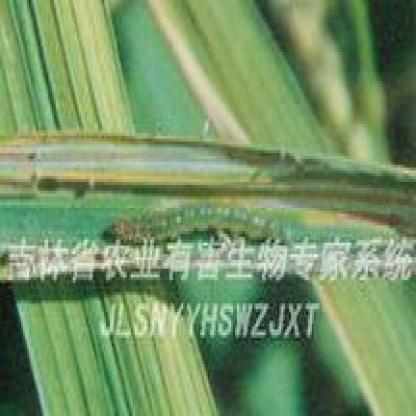leaf-folder: (82, 177, 324, 280)
